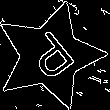P_SE: (18, 24, 82, 87)
